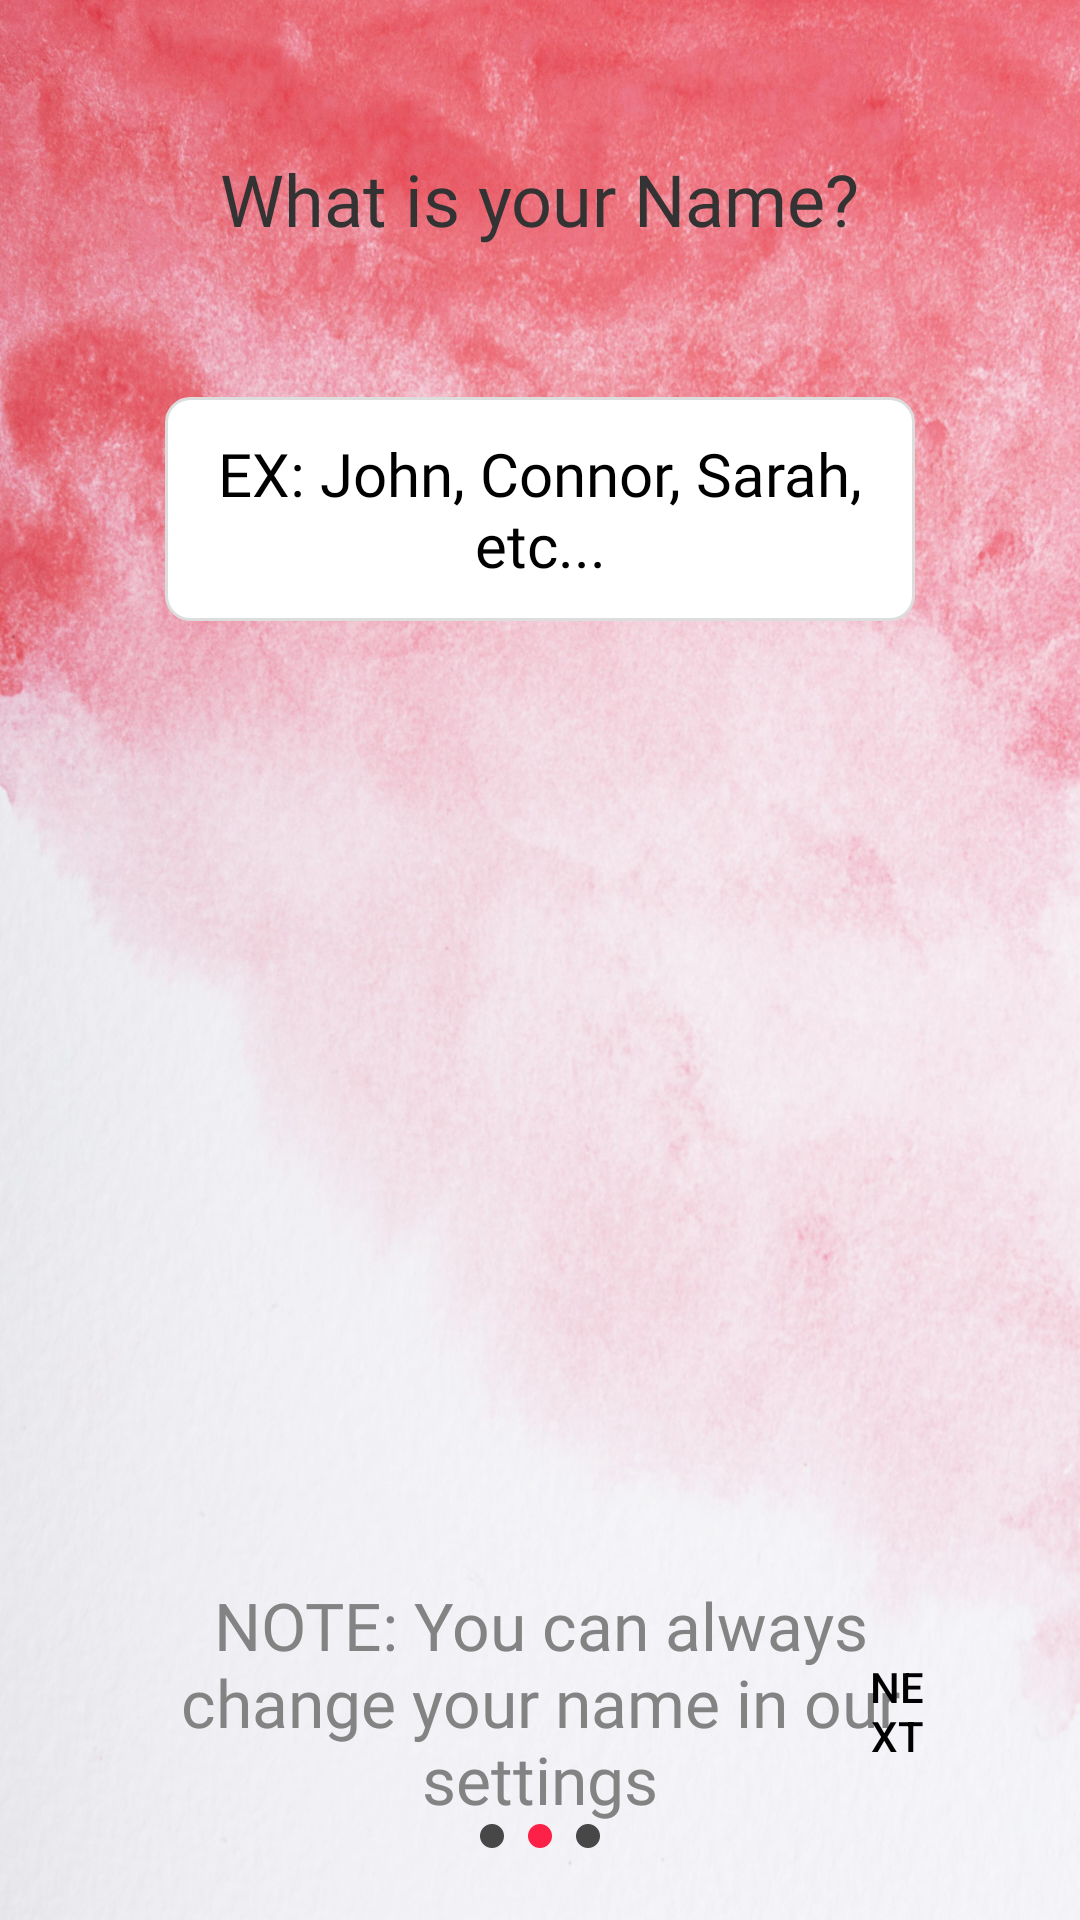

Point at icon controls on the screen. Image size 1080 x 1920, points as [x,y].
dot: [492,1836], [540,1836], [588,1836]
